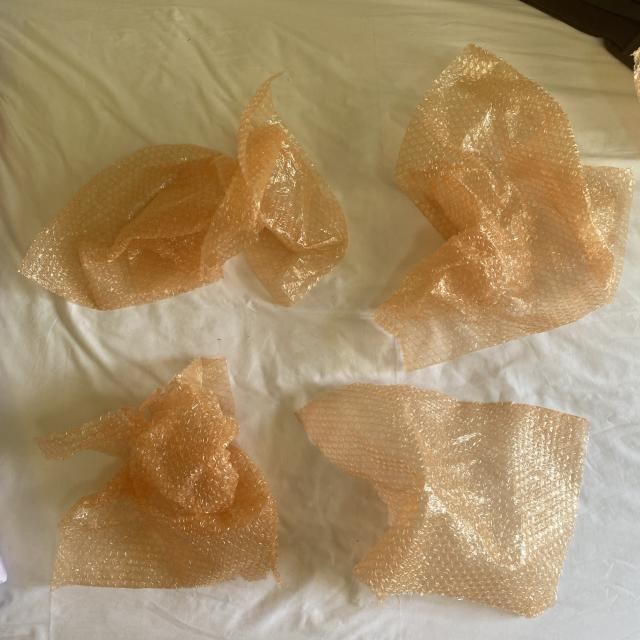Single-layer Plastic: (363, 46, 633, 375), (18, 72, 349, 313), (297, 383, 590, 619), (34, 356, 283, 597)
